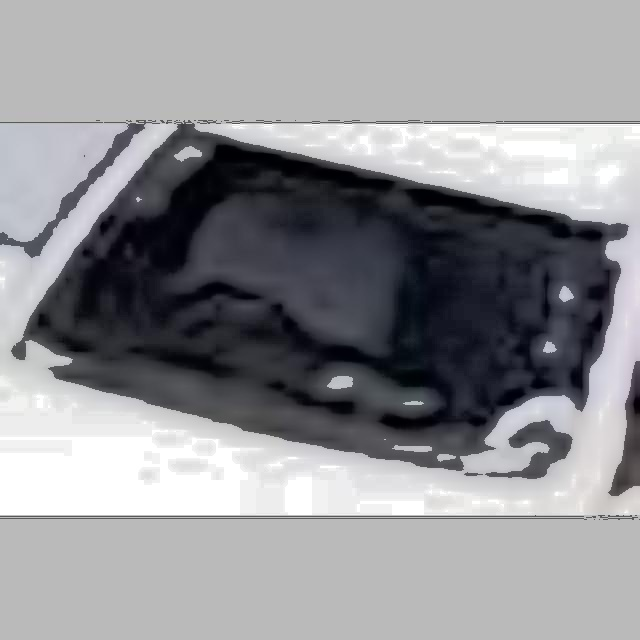tidak-pakai: (133, 168, 400, 391)
